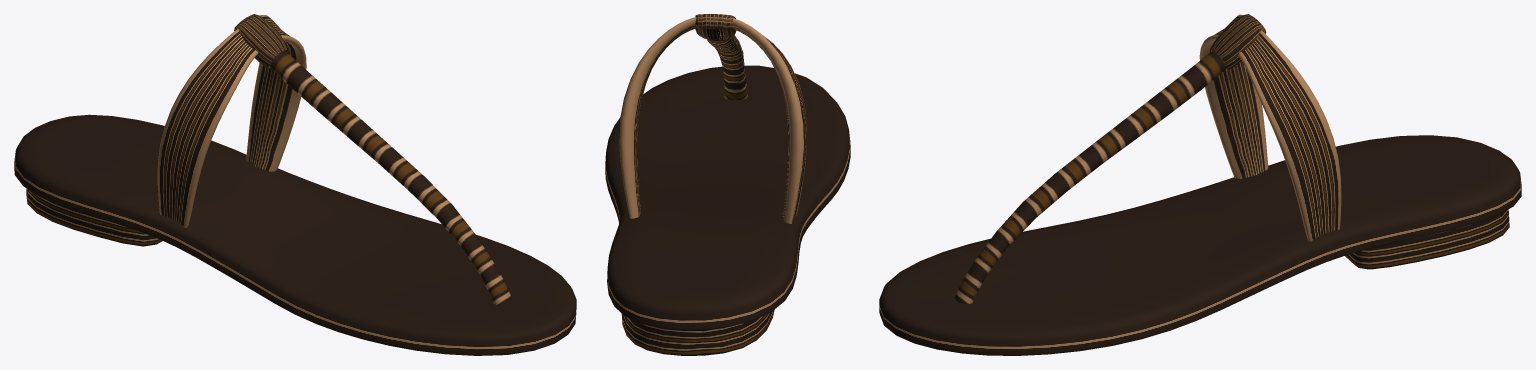
The model's file is egyptian_sandal.glb.
3 renders of one model, left to right at view 1: azimuth 30°, elevation 25°; view 2: azimuth 150°, elevation 25°; view 3: azimuth 270°, elevation 25°, orthographic. The views are drawn at different scales.
Parts seen in each view (by area): view 1: Object_2; view 2: Object_2; view 3: Object_2.
Part boxes in pixels (<box>): Object_2: <box>14,14,576,355</box>; Object_2: <box>605,14,850,355</box>; Object_2: <box>879,14,1521,355</box>.
Size of the model in its own units: 2.9 by 1.92 by 4.64.
1 material, 1 textured.
